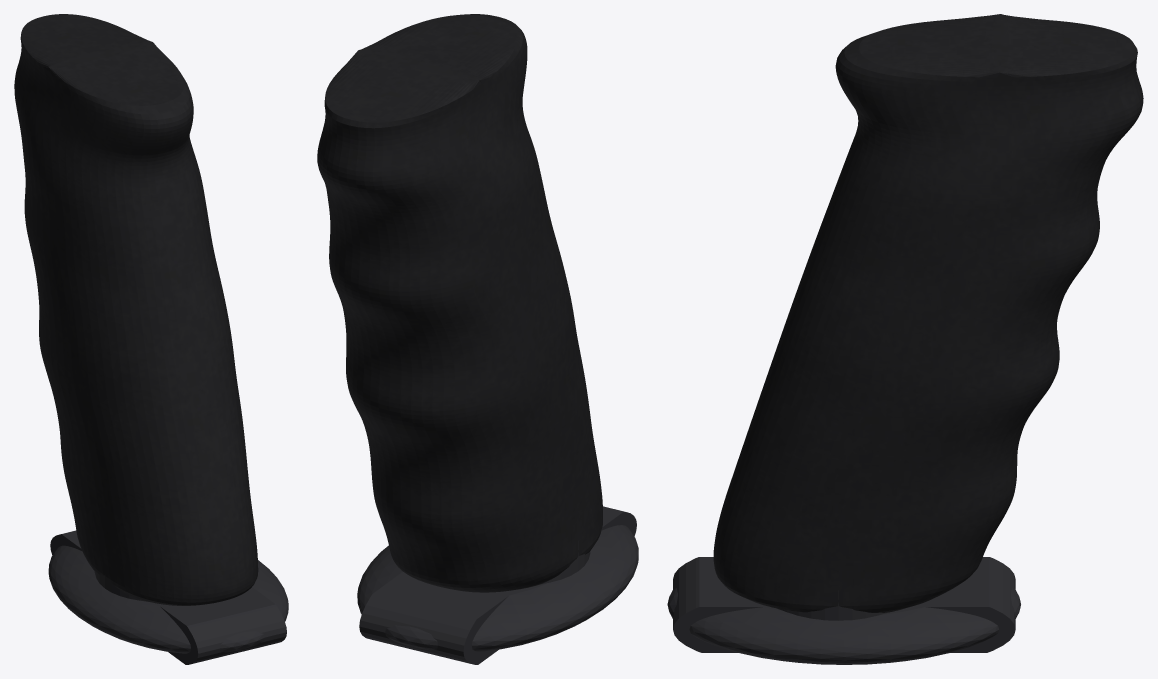
Rendered from punho_cavas.glb.
3 renders of one model, left to right at view 1: azimuth 30°, elevation 25°; view 2: azimuth 150°, elevation 25°; view 3: azimuth 270°, elevation 25°, orthographic. The views are drawn at different scales.
Visible parts, largest first — view 1: punho_cavas_borracha_pedrinhas, punho_cavas_polimero; view 2: punho_cavas_borracha_pedrinhas, punho_cavas_polimero; view 3: punho_cavas_borracha_pedrinhas, punho_cavas_polimero.
Part boxes in pixels (x1,y1,x2,y2): punho_cavas_borracha_pedrinhas: [14, 14, 258, 605]; punho_cavas_polimero: [48, 530, 288, 664]; punho_cavas_borracha_pedrinhas: [317, 14, 602, 592]; punho_cavas_polimero: [357, 506, 638, 664]; punho_cavas_borracha_pedrinhas: [713, 14, 1143, 612]; punho_cavas_polimero: [667, 557, 1020, 664].
Size of the model in its own units: 0.045 by 0.1173 by 0.0861.
4 materials, 1 textured.
